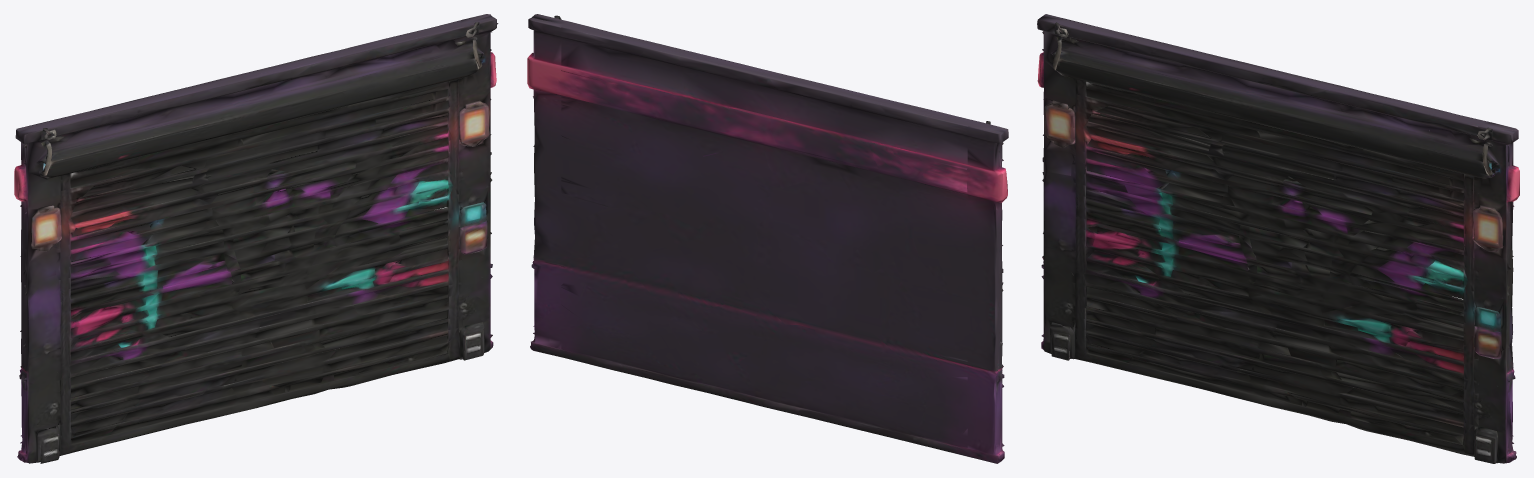
Rendered from 02_roller_shutter.glb.
3 views of the same model, side by side, from view 1: azimuth 30°, elevation 25°; view 2: azimuth 150°, elevation 25°; view 3: azimuth 330°, elevation 25° (orthographic).
Parts seen in each view (by area): view 1: SHUTTER_HOUSING, SHUTTER_GUIDE_LEFT, SHUTTER_GUIDE_RIGHT, SHUTTER_SLAT_07, SHUTTER_SLAT_17, SHUTTER_SLAT_18, SHUTTER_SLAT_20, SHUTTER_SLAT_10, SHUTTER_SLAT_11, SHUTTER_SLAT_23, SHUTTER_SLAT_02, SHUTTER_SLAT_15 (+17 smaller); view 2: SHUTTER_HOUSING, SHUTTER_GUIDE_LEFT, SHUTTER_GUIDE_RIGHT, SHUTTER_SLAT_01, SHUTTER_SLAT_06, SHUTTER_SLAT_20, SHUTTER_SLAT_25, SHUTTER_SLAT_17, SHUTTER_SLAT_19, SHUTTER_SLAT_10, SHUTTER_SLAT_11, SHUTTER_SLAT_12 (+17 smaller); view 3: SHUTTER_HOUSING, SHUTTER_GUIDE_RIGHT, SHUTTER_GUIDE_LEFT, SHUTTER_SLAT_07, SHUTTER_SLAT_17, SHUTTER_SLAT_18, SHUTTER_SLAT_20, SHUTTER_SLAT_23, SHUTTER_SLAT_15, SHUTTER_SLAT_10, SHUTTER_SLAT_22, SHUTTER_SLAT_02 (+17 smaller).
Boxes of the visible parts, bbox=[...] form: SHUTTER_HOUSING: bbox=[49, 21, 466, 171]; SHUTTER_GUIDE_LEFT: bbox=[14, 121, 59, 463]; SHUTTER_GUIDE_RIGHT: bbox=[456, 14, 498, 359]; SHUTTER_SLAT_07: bbox=[56, 270, 462, 380]; SHUTTER_SLAT_17: bbox=[56, 159, 463, 269]; SHUTTER_SLAT_18: bbox=[56, 148, 462, 258]; SHUTTER_SLAT_20: bbox=[57, 127, 464, 236]; SHUTTER_SLAT_10: bbox=[56, 238, 464, 347]; SHUTTER_SLAT_11: bbox=[56, 226, 464, 336]; SHUTTER_SLAT_23: bbox=[56, 92, 462, 202]; SHUTTER_SLAT_02: bbox=[56, 326, 465, 438]; SHUTTER_SLAT_15: bbox=[56, 181, 462, 291]; SHUTTER_HOUSING: bbox=[561, 21, 974, 170]; SHUTTER_GUIDE_LEFT: bbox=[967, 121, 1008, 463]; SHUTTER_GUIDE_RIGHT: bbox=[527, 14, 568, 356]; SHUTTER_SLAT_01: bbox=[561, 337, 967, 447]; SHUTTER_SLAT_06: bbox=[561, 282, 967, 391]; SHUTTER_SLAT_20: bbox=[561, 126, 967, 236]; SHUTTER_SLAT_25: bbox=[560, 71, 966, 181]; SHUTTER_SLAT_17: bbox=[561, 159, 967, 269]; SHUTTER_SLAT_19: bbox=[561, 137, 967, 247]; SHUTTER_SLAT_10: bbox=[561, 237, 967, 347]; SHUTTER_SLAT_11: bbox=[561, 226, 967, 336]; SHUTTER_SLAT_12: bbox=[561, 215, 967, 325]; SHUTTER_HOUSING: bbox=[1067, 22, 1485, 171]; SHUTTER_GUIDE_RIGHT: bbox=[1475, 121, 1519, 463]; SHUTTER_GUIDE_LEFT: bbox=[1037, 14, 1077, 360]; SHUTTER_SLAT_07: bbox=[1071, 271, 1478, 381]; SHUTTER_SLAT_17: bbox=[1071, 159, 1478, 269]; SHUTTER_SLAT_18: bbox=[1071, 148, 1478, 258]; SHUTTER_SLAT_20: bbox=[1070, 127, 1477, 237]; SHUTTER_SLAT_23: bbox=[1071, 93, 1478, 203]; SHUTTER_SLAT_15: bbox=[1071, 182, 1478, 292]; SHUTTER_SLAT_10: bbox=[1071, 237, 1477, 348]; SHUTTER_SLAT_22: bbox=[1070, 104, 1478, 215]; SHUTTER_SLAT_02: bbox=[1068, 326, 1478, 438].
Bounding box in the file's own units: 3.8 × 2.55 × 0.16.
Materials: 2 (1 with a texture image).
